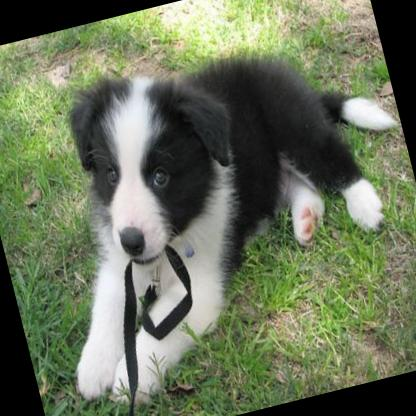collie: (2, 5, 416, 416)
